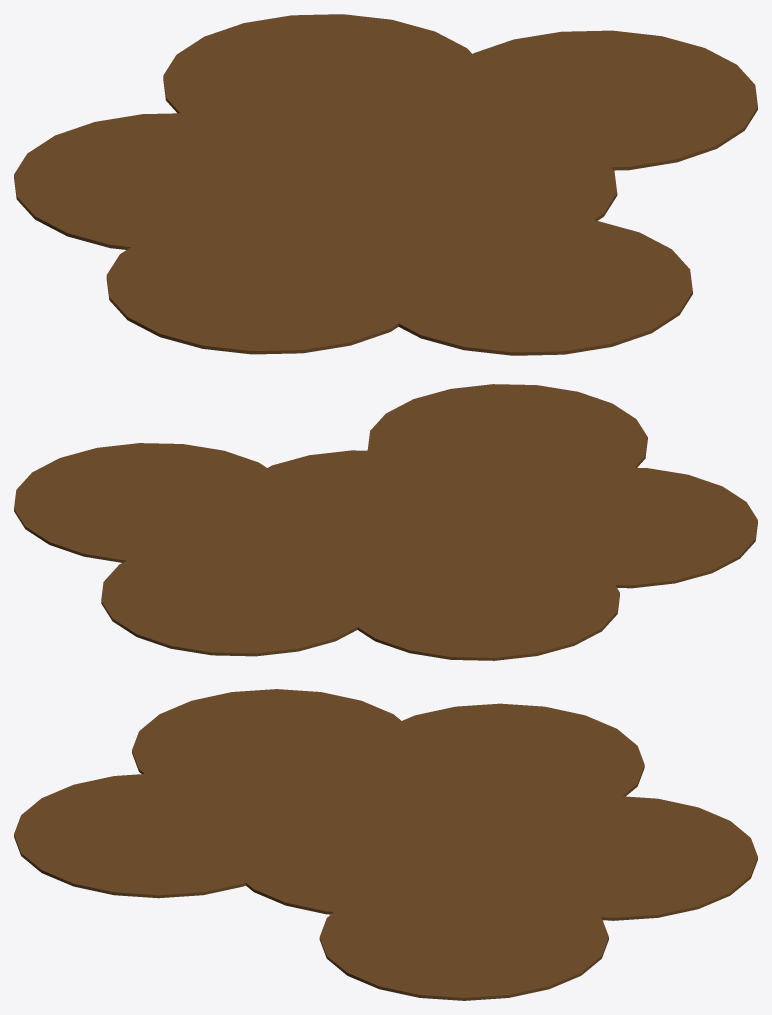
File: Gathering Area Platform.fbx
The picture shows the model from 3 angles, top to bottom: view 1: azimuth 30°, elevation 25°; view 2: azimuth 150°, elevation 25°; view 3: azimuth 270°, elevation 25°; orthographic projection. The views are drawn at different scales.
Visible parts, largest first — view 1: Gathering_Area__3_, Gathering_Area__2_, Gathering_Area__6_, Gathering_Area__4_, Gathering_Area__5_, Gathering_Area; view 2: Gathering_Area__4_, Gathering_Area, Gathering_Area__5_, Gathering_Area__6_, Gathering_Area__2_, Gathering_Area__3_; view 3: Gathering_Area, Gathering_Area__5_, Gathering_Area__4_, Gathering_Area__2_, Gathering_Area__3_, Gathering_Area__6_.
Part boxes in pixels (x1,y1,x2,y2): Gathering_Area__3_: (368, 215, 692, 355); Gathering_Area__2_: (293, 116, 617, 253); Gathering_Area__6_: (163, 14, 487, 151); Gathering_Area__4_: (106, 213, 431, 354); Gathering_Area__5_: (14, 113, 338, 249); Gathering_Area: (433, 30, 757, 170); Gathering_Area__4_: (478, 467, 757, 588); Gathering_Area: (14, 443, 293, 562); Gathering_Area__5_: (340, 542, 619, 660); Gathering_Area__6_: (101, 535, 380, 656); Gathering_Area__2_: (229, 450, 503, 568); Gathering_Area__3_: (367, 384, 647, 500); Gathering_Area: (319, 877, 608, 1000); Gathering_Area__5_: (355, 703, 644, 824); Gathering_Area__4_: (132, 689, 420, 809); Gathering_Area__2_: (226, 792, 514, 914); Gathering_Area__3_: (14, 773, 299, 898); Gathering_Area__6_: (473, 796, 757, 920).
Bounding box in the file's own units: 3812 × 16.96 × 3880.
